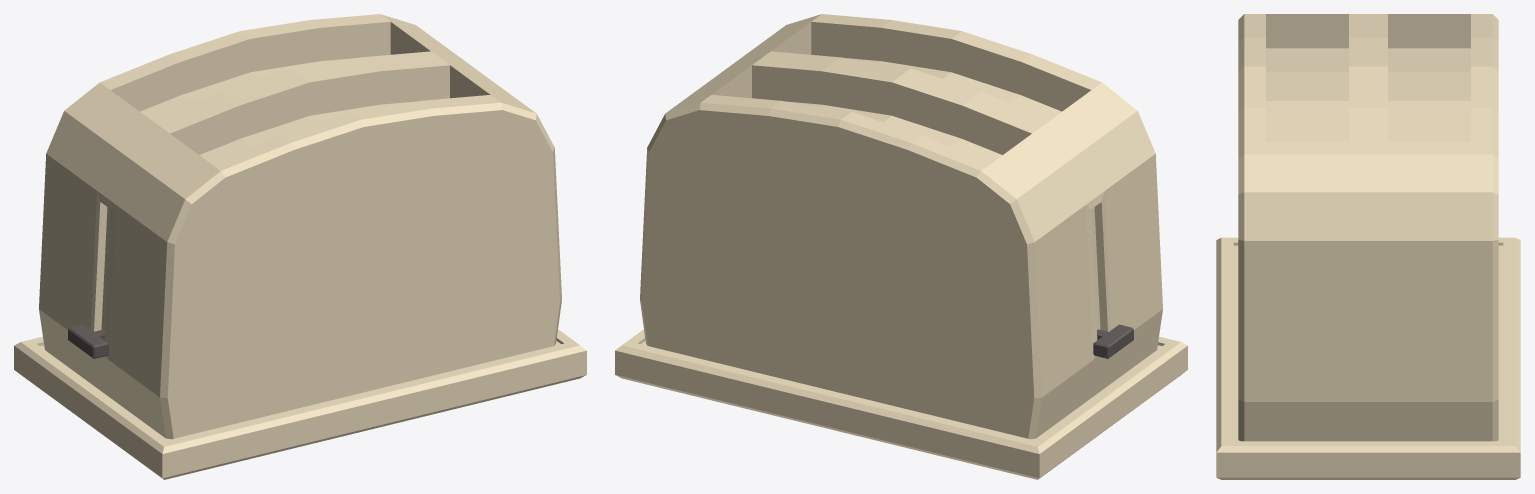
File: Toaster1.glb
3 views of the same model, side by side, from view 1: azimuth 30°, elevation 25°; view 2: azimuth 150°, elevation 25°; view 3: azimuth 270°, elevation 25° (orthographic). The views are drawn at different scales.
Visible parts, largest first — view 1: Toaster1, ToasterLever1Toaster1; view 2: Toaster1, ToasterLever1Toaster1; view 3: Toaster1.
Part boxes in pixels (x1=…): Toaster1: x1=14, y1=14, x2=586, y2=479; ToasterLever1Toaster1: x1=68, y1=324, x2=108, y2=358; Toaster1: x1=615, y1=14, x2=1187, y2=479; ToasterLever1Toaster1: x1=1093, y1=324, x2=1133, y2=358; Toaster1: x1=1216, y1=14, x2=1520, y2=479.
Size of the model in its own units: 0.4098 by 0.2729 by 0.2435.
